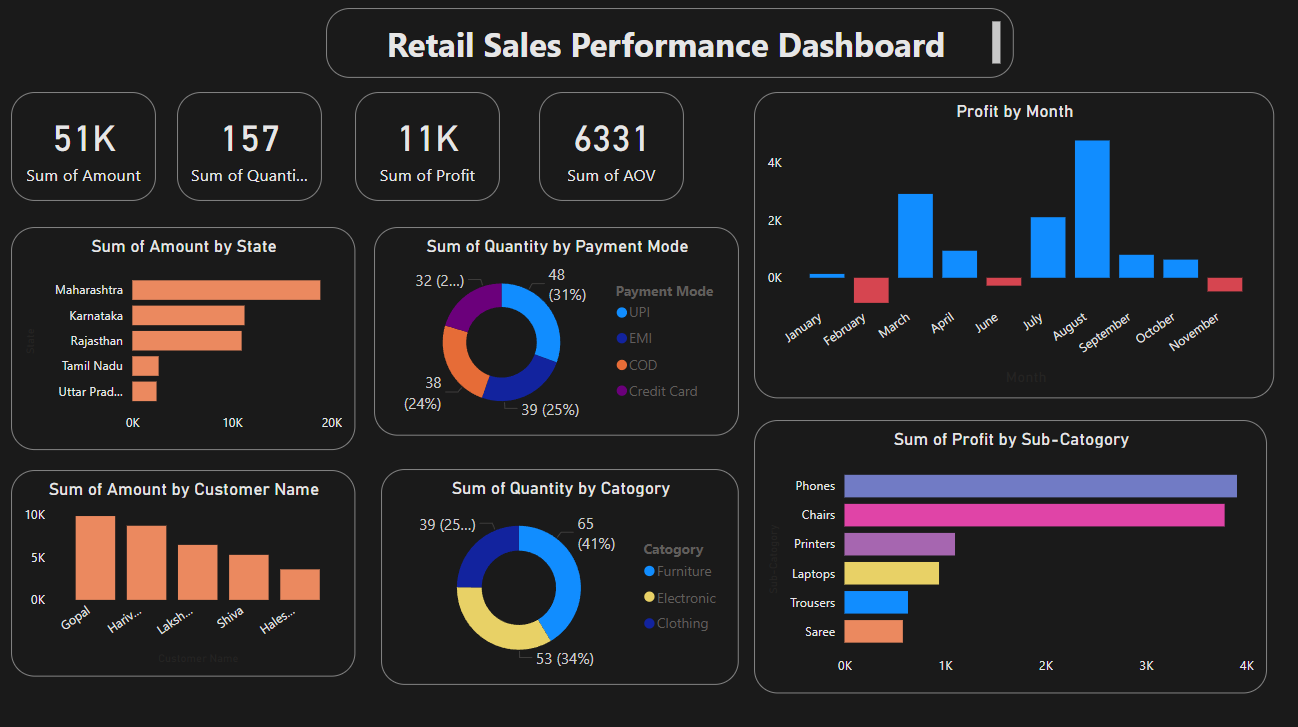

The dashboard page shown, as its layout file describes it:
{"tool":"powerbi","page":{"name":"Page 1","canvas":[1280,720],"ordinal":0},"visuals":[{"type":"textbox","box":[322.9,12.6,669.2,68.1],"z":0},{"type":"columnChart","title":"Profit by Month","fields":{"Category":["Table1.Order Date.Variation.Date Hierarchy.Month"],"Y":["Table1 (2).Profit"]},"box":[739.2,94.3,505.8,297.6],"z":1000},{"type":"barChart","fields":{"Category":["Table1 (2).Sub-Catogory"],"Y":["Table1 (2).Profit"]},"box":[739.2,413.4,499,265.5],"z":2000},{"type":"donutChart","fields":{"Category":["Table1 (2).Catogory"],"Y":["Table1 (2).Quantity"]},"box":[376.4,461,348.2,210.1],"z":3000},{"type":"donutChart","fields":{"Y":["Table1 (2).Quantity"],"Category":["Table1 (2).Payment Mode"]},"box":[369.6,225.7,355,203.3],"z":4000},{"type":"card","fields":{"Values":["Table1 (2).Amount"]},"box":[16.5,94.3,141,106],"z":5000},{"type":"card","fields":{"Values":["Table1 (2).Quantity"]},"box":[178,94.3,141,106],"z":6000},{"type":"card","fields":{"Values":["Table1 (2).Profit"]},"box":[351.1,94.3,141,106],"z":7000},{"type":"card","fields":{"Values":["Table1 (2).AOV"]},"box":[530.1,94.3,141,106],"z":8000},{"type":"barChart","fields":{"Category":["Table1.State"],"Y":["Table1 (2).Amount"]},"box":[16.5,225.7,334.6,216.9],"z":9000},{"type":"columnChart","fields":{"Category":["Table1.Customer Name"],"Y":["Table1 (2).Amount"]},"box":[16.5,462,334.6,201.3],"z":10000}]}

Visuals, with their boxes in screenshot pixels (x1, y1, x2, y2), scaled from the page's 1280x720 canvas onto the 1298x727 screenshot:
textbox: BBox(327, 13, 1006, 81)
"Profit by Month" columnChart: BBox(750, 95, 1263, 396)
barChart - Table1 (2).Sub-Catogory x Table1 (2).Profit: BBox(750, 417, 1256, 686)
donutChart - Table1 (2).Catogory x Table1 (2).Quantity: BBox(382, 465, 735, 678)
donutChart - Table1 (2).Quantity x Table1 (2).Payment Mode: BBox(375, 228, 735, 433)
card - Table1 (2).Amount: BBox(17, 95, 160, 202)
card - Table1 (2).Quantity: BBox(181, 95, 323, 202)
card - Table1 (2).Profit: BBox(356, 95, 499, 202)
card - Table1 (2).AOV: BBox(538, 95, 681, 202)
barChart - Table1.State x Table1 (2).Amount: BBox(17, 228, 356, 447)
columnChart - Table1.Customer Name x Table1 (2).Amount: BBox(17, 466, 356, 670)
